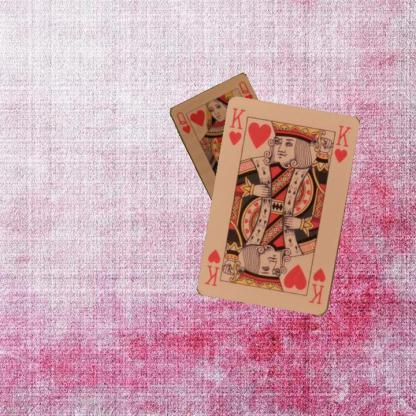Kh: (226, 105, 247, 147), (306, 265, 327, 306)
Qh: (174, 109, 192, 135)
